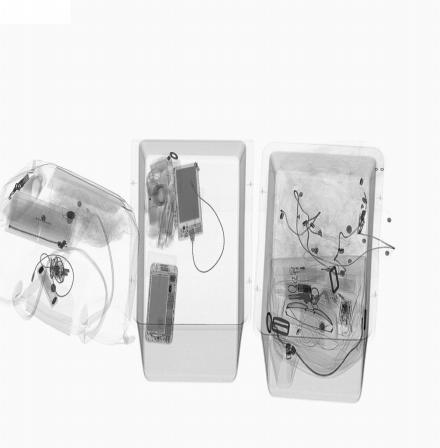Lighter: (289, 265, 328, 283)
